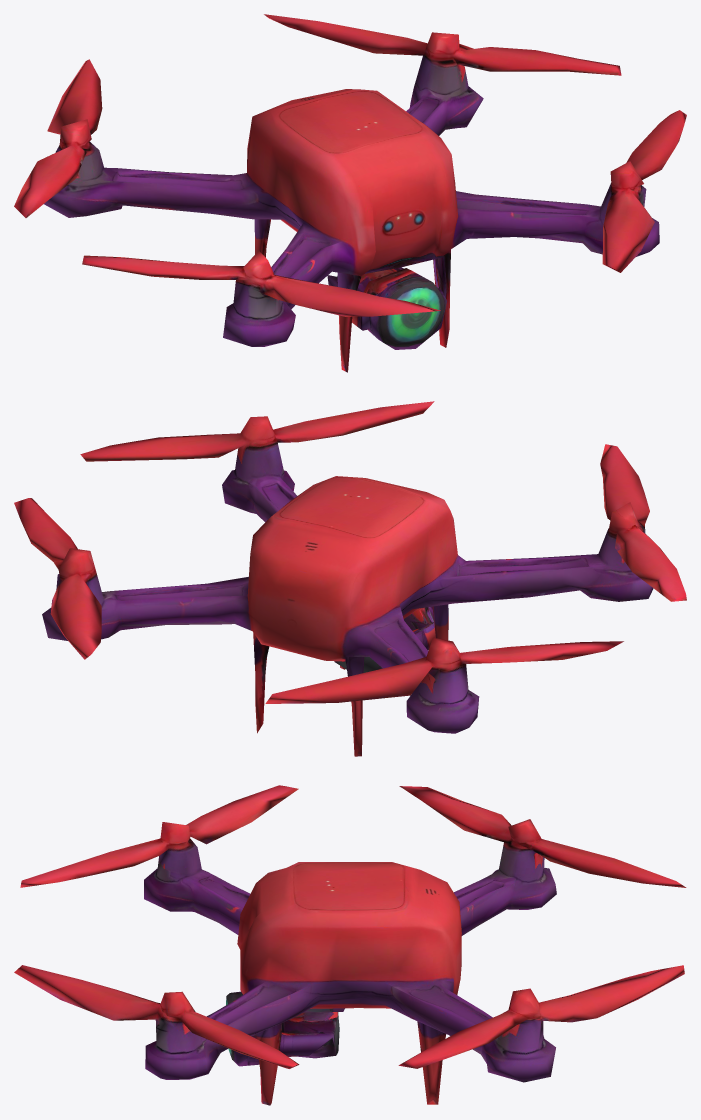
The model's file is Red_Aerial_Explorer_0408235355_texture.glb.
3 views of the same model, one above another, from view 1: azimuth 30°, elevation 25°; view 2: azimuth 150°, elevation 25°; view 3: azimuth 270°, elevation 25° (orthographic). The views are drawn at different scales.
Visible parts, largest first — view 1: Mesh1; view 2: Mesh1; view 3: Mesh1.
Boxes of the visible parts, <box> form: Mesh1: <box>14,14,686,372</box>; Mesh1: <box>14,401,686,756</box>; Mesh1: <box>14,785,686,1105</box>.
Bounding box in the file's own units: 2.01 × 0.6589 × 2.02.
Materials: 1 (1 with a texture image).
